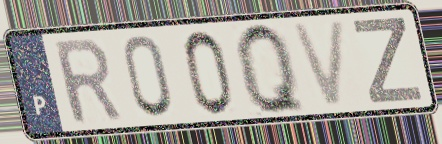0: (183, 27, 236, 118), (123, 33, 175, 120)
Q: (233, 19, 310, 118)
R: (49, 35, 126, 128)
V: (287, 16, 349, 111)
Z: (349, 15, 426, 106)
